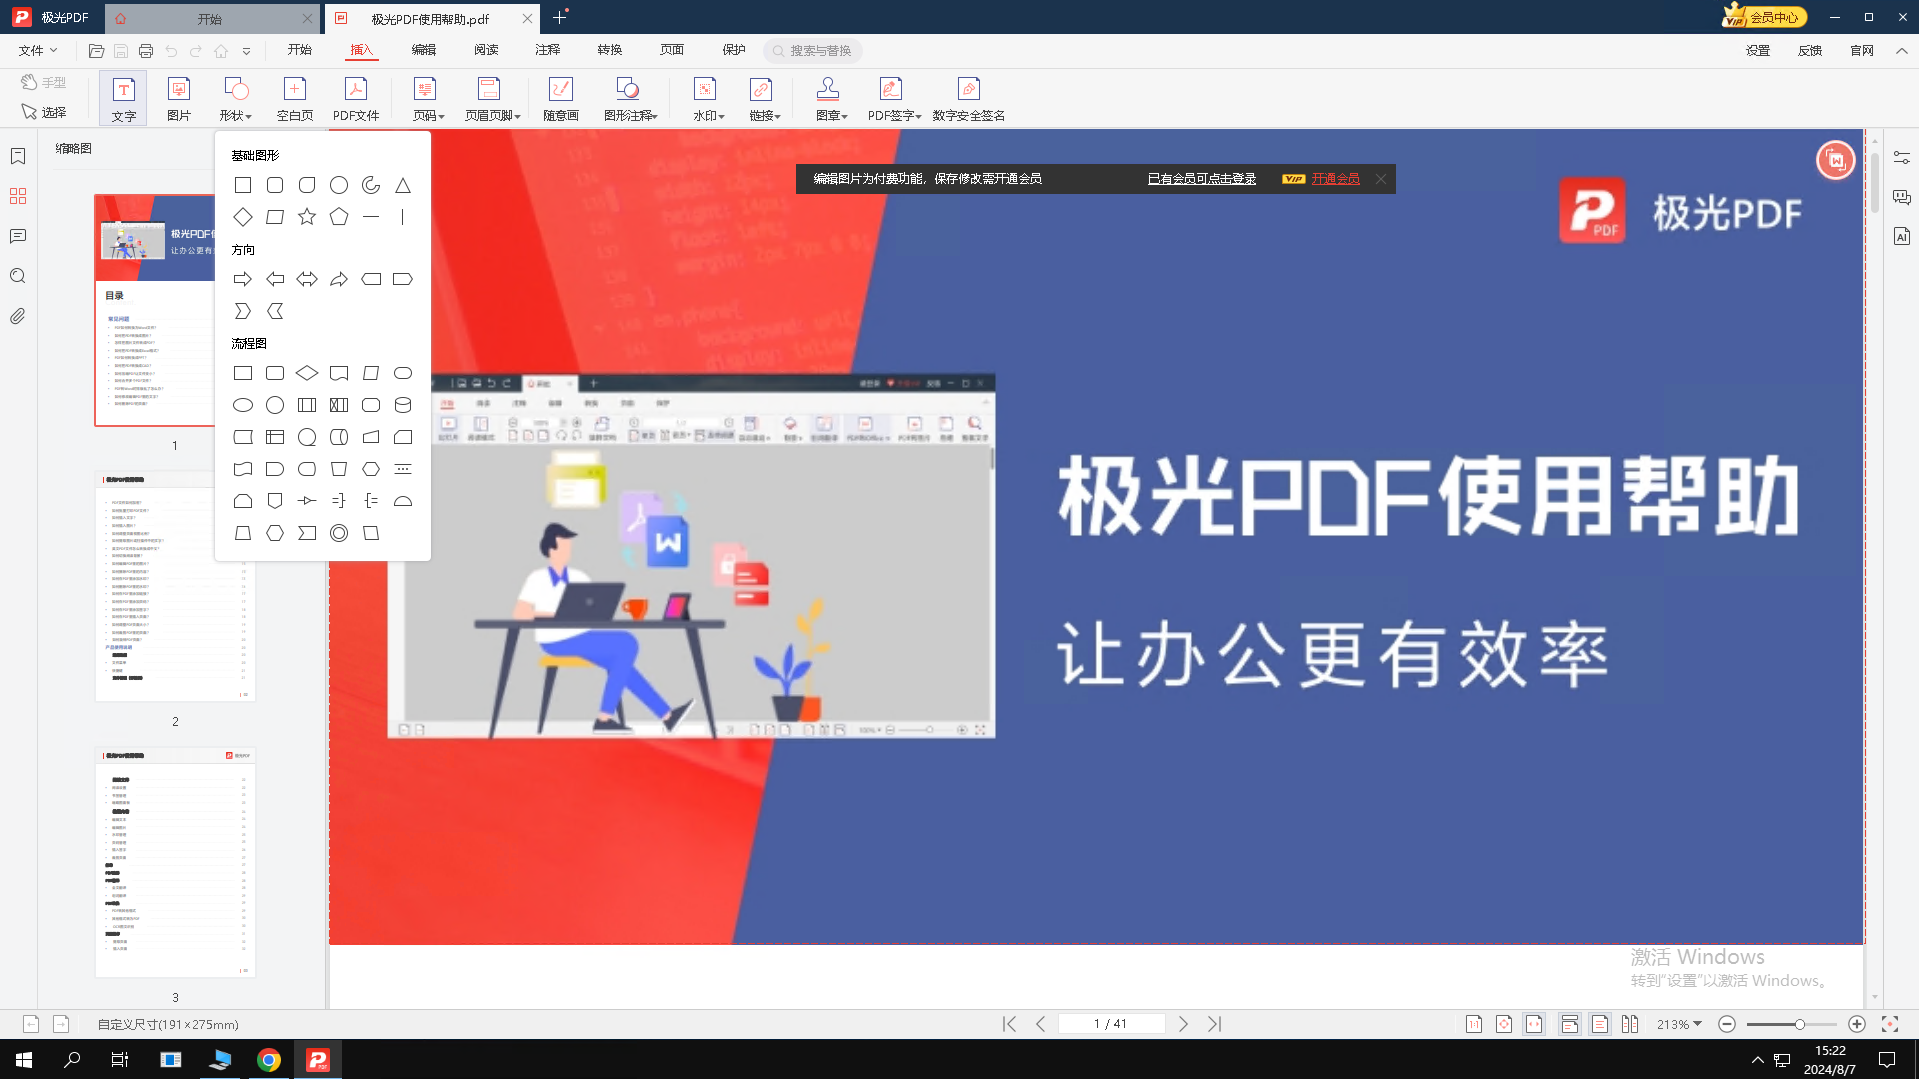Clickable: (260, 202, 298, 238), (349, 354, 386, 393), (320, 487, 358, 524), (323, 352, 358, 390), (381, 357, 418, 393), (283, 266, 324, 298), (258, 422, 293, 457), (225, 484, 260, 519), (260, 390, 293, 427), (223, 455, 264, 484), (349, 491, 390, 520), (386, 167, 420, 202), (385, 426, 422, 457), (260, 455, 297, 486), (351, 457, 390, 486), (290, 420, 323, 455), (316, 422, 355, 451), (220, 394, 260, 422), (322, 202, 355, 235), (322, 391, 355, 424), (326, 263, 360, 295), (225, 354, 260, 386), (260, 482, 291, 516), (223, 296, 260, 325), (384, 487, 420, 516), (358, 263, 390, 296), (357, 170, 387, 204), (294, 202, 324, 235), (353, 427, 386, 457), (287, 390, 322, 419), (260, 358, 291, 389), (289, 173, 322, 202), (322, 169, 355, 198), (227, 263, 256, 296), (387, 395, 420, 424), (225, 422, 254, 455), (289, 455, 322, 484), (254, 269, 290, 295), (260, 292, 291, 321), (294, 519, 326, 548), (257, 174, 290, 202), (355, 395, 387, 423), (287, 485, 320, 512), (357, 516, 385, 549), (290, 364, 324, 389), (229, 202, 260, 229), (264, 519, 290, 551), (322, 458, 355, 484), (326, 516, 352, 547), (389, 457, 420, 482), (390, 262, 415, 292), (394, 202, 416, 235), (231, 171, 257, 199), (227, 524, 258, 547), (358, 207, 384, 232)
Root: (214, 132, 428, 563)
